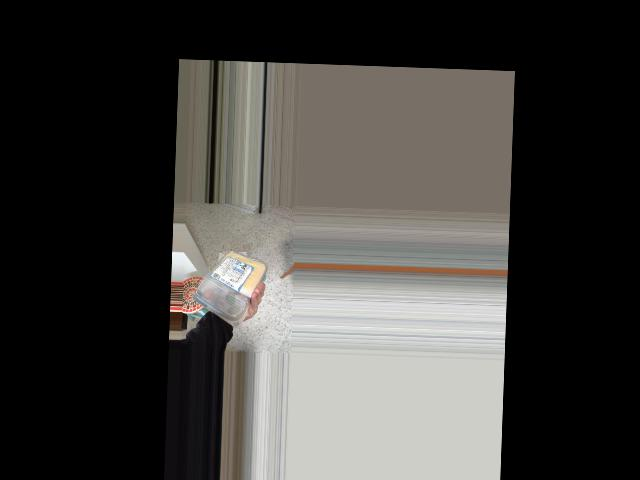cheese: (191, 242, 259, 319)
